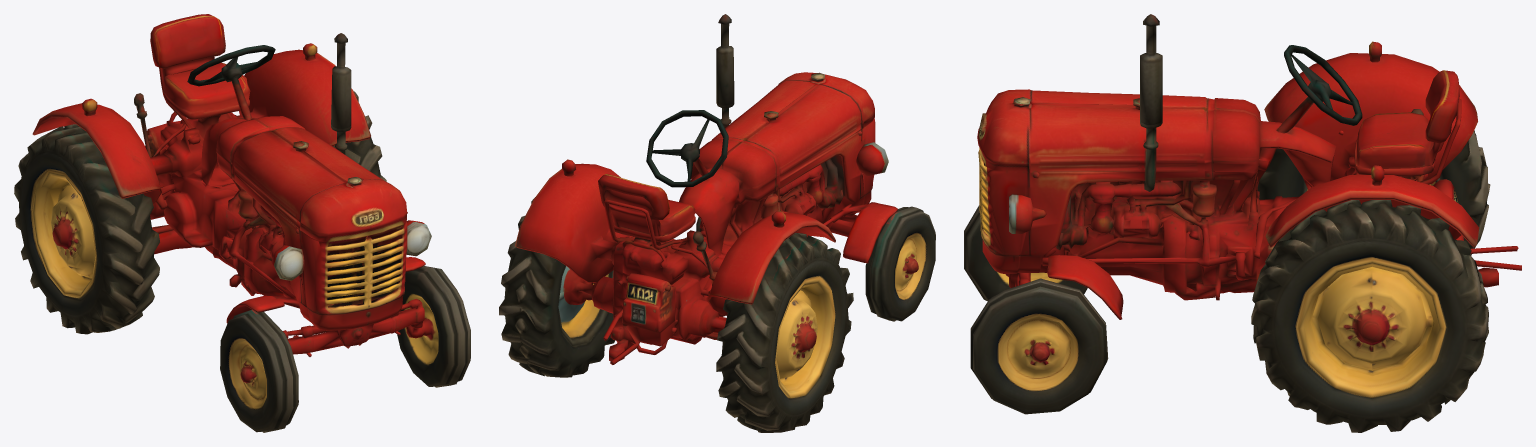
The model's file is tractor.glb.
3 renders of one model, left to right at view 1: azimuth 30°, elevation 25°; view 2: azimuth 150°, elevation 25°; view 3: azimuth 270°, elevation 25°, orthographic. The views are drawn at different scales.
Visible parts, largest first — view 1: tripo_node_4052e48b-1aca-4261-a178-a1d738ad61fd; view 2: tripo_node_4052e48b-1aca-4261-a178-a1d738ad61fd; view 3: tripo_node_4052e48b-1aca-4261-a178-a1d738ad61fd.
Part boxes in pixels (x1,y1,x2,y2): tripo_node_4052e48b-1aca-4261-a178-a1d738ad61fd: (14,14,470,432); tripo_node_4052e48b-1aca-4261-a178-a1d738ad61fd: (499,14,935,432); tripo_node_4052e48b-1aca-4261-a178-a1d738ad61fd: (964,14,1521,432).
Size of the model in its own units: 0.6724 by 0.726 by 0.9789.
1 material, 1 textured.
